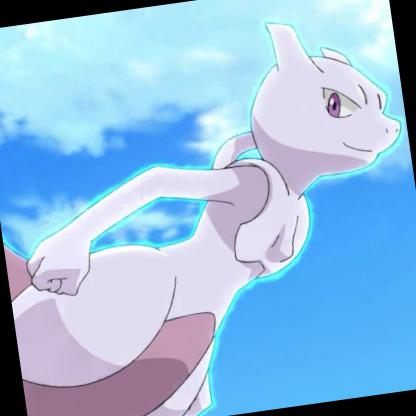Mewtu: (0, 0, 415, 379)
